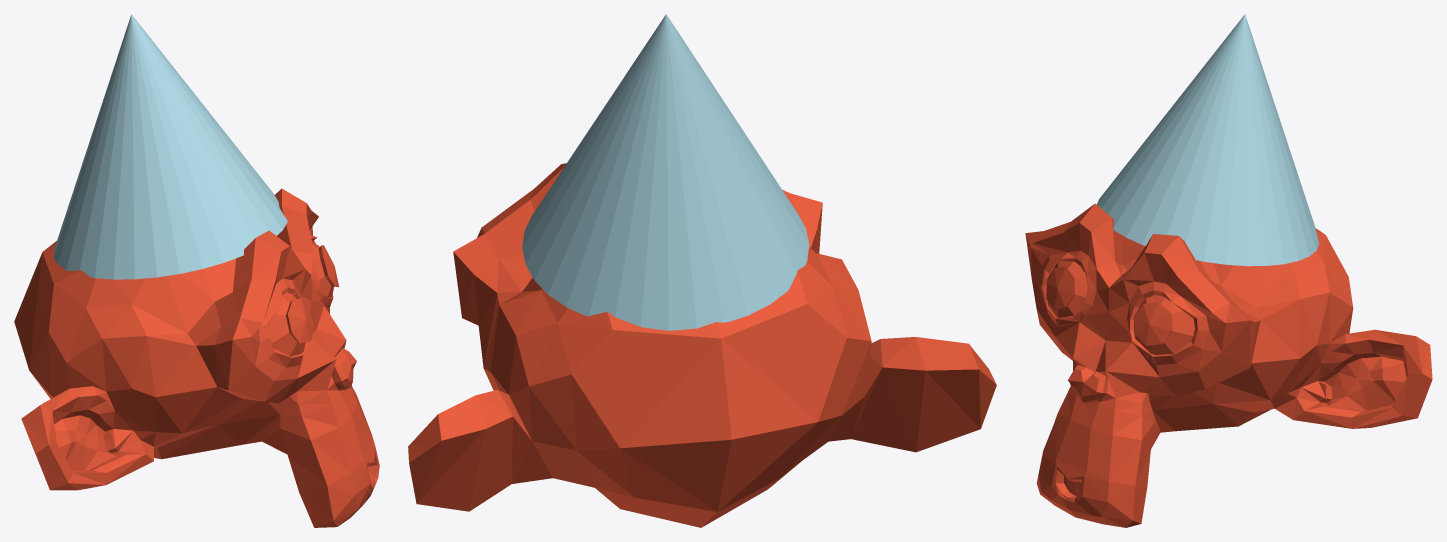
The model's file is monkey_with_hat.dae.
The picture shows the model from 3 angles, left to right: view 1: azimuth 30°, elevation 25°; view 2: azimuth 150°, elevation 25°; view 3: azimuth 270°, elevation 25°; orthographic projection. The views are drawn at different scales.
Parts seen in each view (by area): view 1: Cone; view 2: Cone; view 3: Cone.
Part boxes in pixels (x1,y1,x2,y2): Cone: [14, 14, 379, 527]; Cone: [408, 14, 996, 527]; Cone: [1025, 14, 1432, 527].
Bounding box in the file's own units: 2.22 × 2.29 × 2.75.
